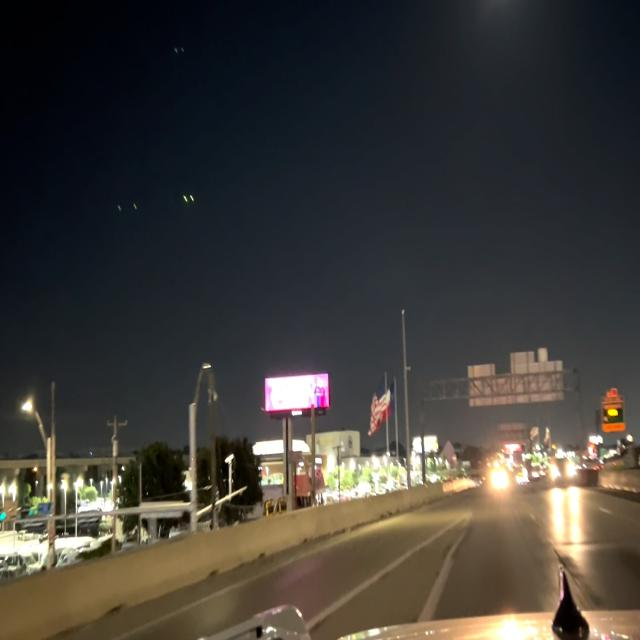back-of-sign: (463, 344, 568, 412), (496, 416, 530, 448), (442, 438, 455, 466)
